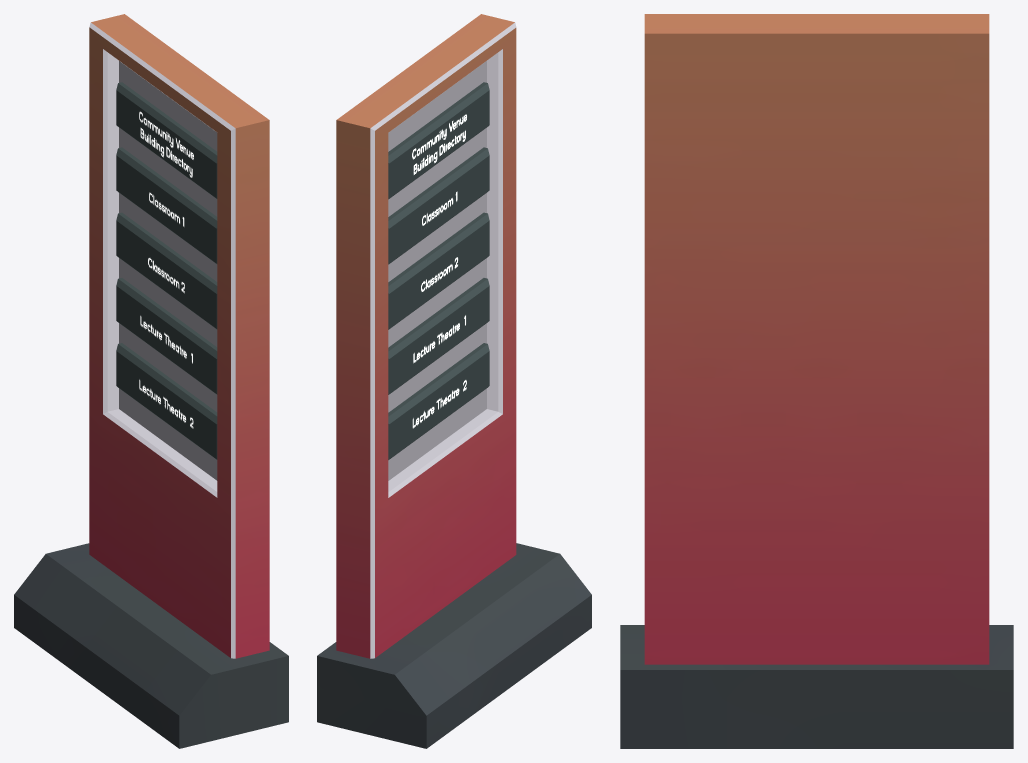
Rendered from TeachingCommunityTeleport.glb.
3 views of the same model, side by side, from view 1: azimuth 30°, elevation 25°; view 2: azimuth 150°, elevation 25°; view 3: azimuth 270°, elevation 25° (orthographic). The views are drawn at different scales.
Parts seen in each view (by area): view 1: TCV_WelcomeZoneWhatsOnScreen1, Classroom2, Classroom1, CommunityVenueBuildingDirectoryTitle, LectureTheatre1, LectureTheatre2; view 2: TCV_WelcomeZoneWhatsOnScreen1, CommunityVenueBuildingDirectoryTitle, Classroom1, Classroom2, LectureTheatre1, LectureTheatre2; view 3: TCV_WelcomeZoneWhatsOnScreen1.
Boxes of the visible parts, x1=… form: TCV_WelcomeZoneWhatsOnScreen1: x1=14, y1=14, x2=288, y2=748; Classroom2: x1=116, y1=212, x2=217, y2=329; Classroom1: x1=116, y1=147, x2=217, y2=263; CommunityVenueBuildingDirectoryTitle: x1=116, y1=82, x2=217, y2=198; LectureTheatre1: x1=116, y1=278, x2=217, y2=394; LectureTheatre2: x1=116, y1=343, x2=217, y2=459; TCV_WelcomeZoneWhatsOnScreen1: x1=317, y1=14, x2=591, y2=748; CommunityVenueBuildingDirectoryTitle: x1=388, y1=82, x2=489, y2=199; Classroom1: x1=388, y1=147, x2=489, y2=264; Classroom2: x1=388, y1=212, x2=489, y2=329; LectureTheatre1: x1=388, y1=278, x2=489, y2=394; LectureTheatre2: x1=388, y1=343, x2=489, y2=459; TCV_WelcomeZoneWhatsOnScreen1: x1=620, y1=14, x2=1013, y2=748.
Size of what is drawn, in the model's own units: 0.615 by 3.2 by 1.61.
Materials: 3 (3 with a texture image).
